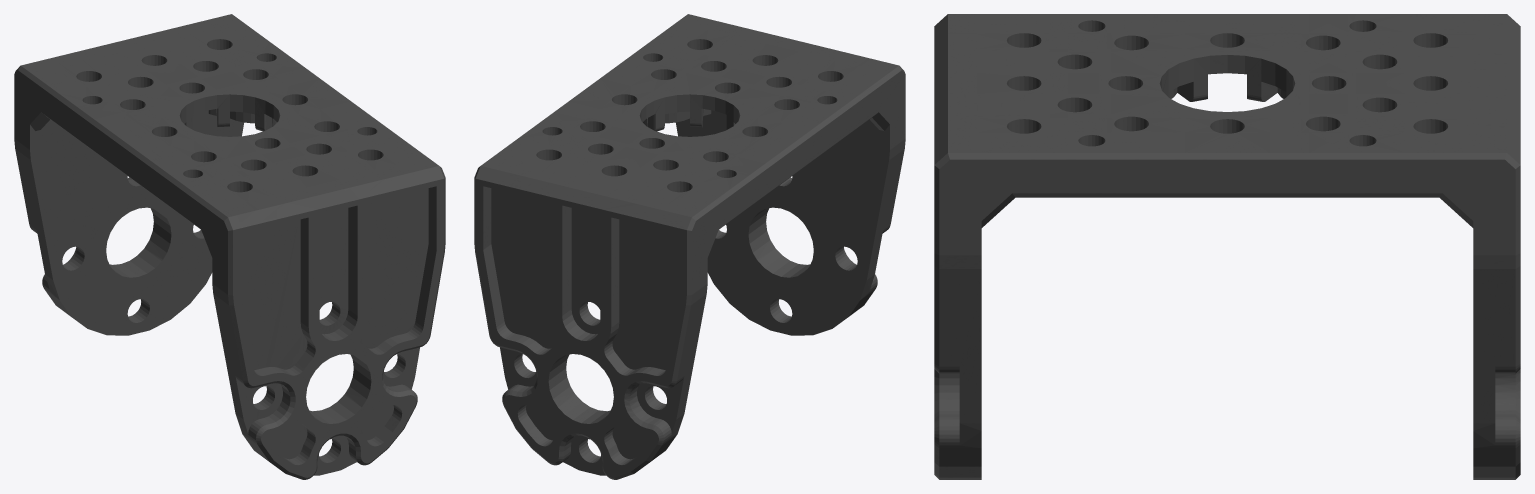
File: thumb_pip.dae
The picture shows the model from 3 angles, left to right: view 1: azimuth 30°, elevation 25°; view 2: azimuth 150°, elevation 25°; view 3: azimuth 270°, elevation 25°; orthographic projection. The views are drawn at different scales.
Visible parts, largest first — view 1: node; view 2: node; view 3: node.
Part boxes in pixels (<box>): node: <box>14,14,445,479</box>; node: <box>474,14,905,479</box>; node: <box>934,14,1520,479</box>.
Bounding box in the file's own units: 0.02 × 0.0249 × 0.0346.
1 material, 1 textured.
